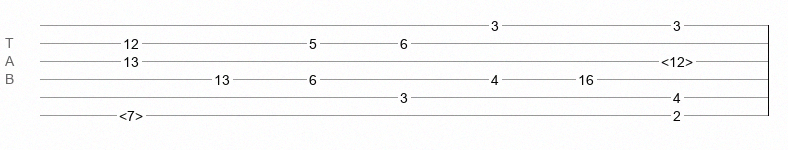12: (123, 36, 139, 46)
13: (123, 54, 139, 64), (214, 72, 230, 82)
16: (578, 72, 594, 82)
2: (673, 108, 681, 118)
3: (400, 90, 408, 100), (491, 18, 499, 28), (673, 18, 681, 28)
4: (491, 72, 499, 82), (673, 90, 681, 100)
5: (309, 36, 317, 46)
6: (309, 72, 317, 82), (400, 36, 408, 46)
harmonic: (661, 54, 693, 64), (119, 108, 143, 118)
